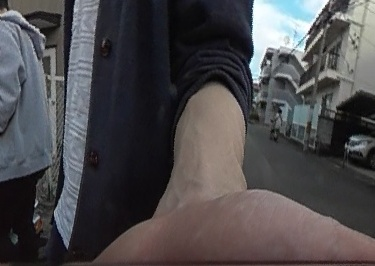person: (270, 108, 284, 140)
